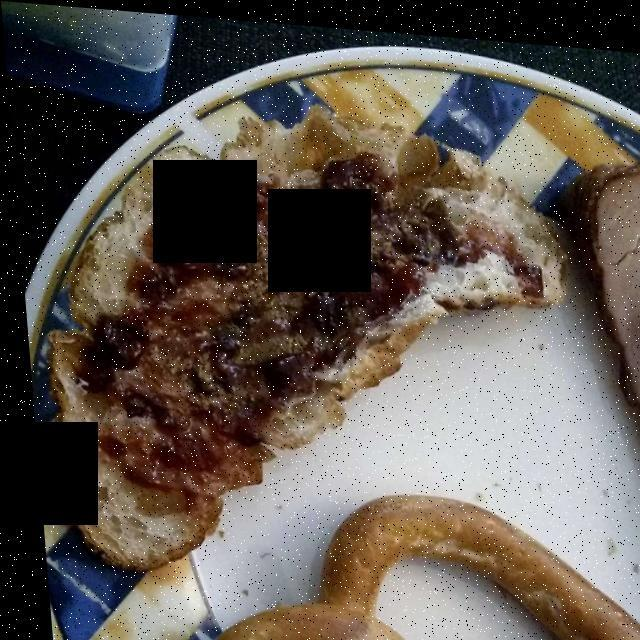croissant: (39, 119, 589, 573)
jam: (157, 245, 429, 493)
peanut-butter: (128, 150, 430, 368)
